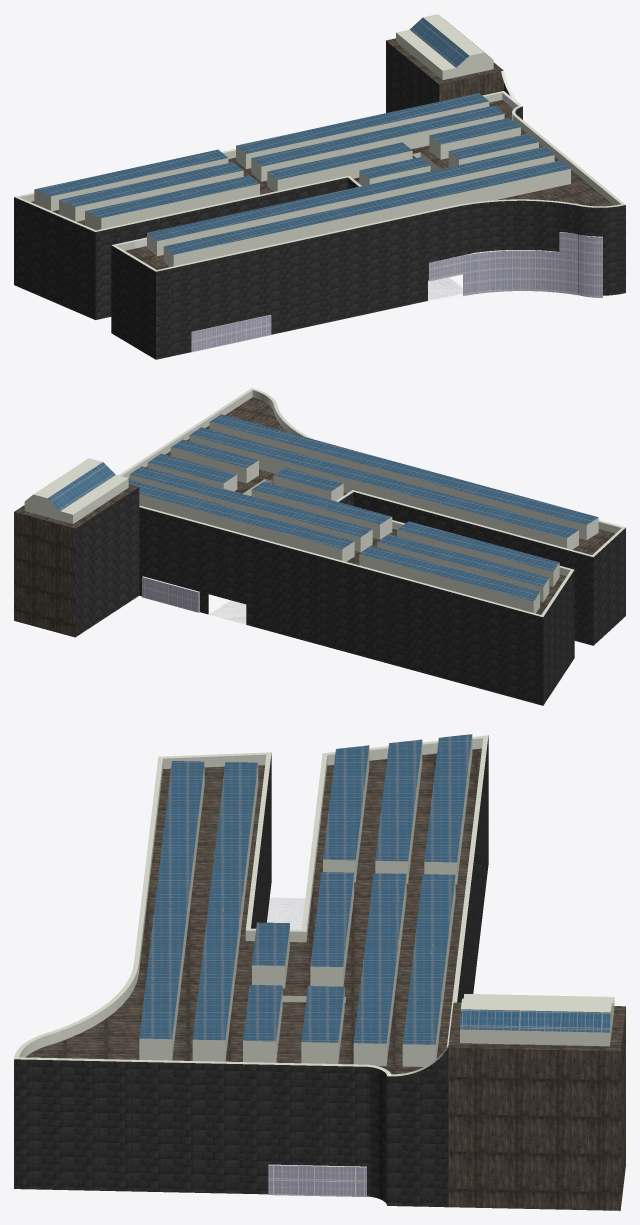
3 renders of one model, top to bottom at view 1: azimuth 30°, elevation 25°; view 2: azimuth 150°, elevation 25°; view 3: azimuth 270°, elevation 25°, orthographic. The views are drawn at different scales.
Parts seen in each view (by area): view 1: SketchUp.001, SketchUp.014, SketchUp.053, SketchUp.005, SketchUp.054, SketchUp.032, SketchUp.006, SketchUp.031, SketchUp.021, SketchUp.023, SketchUp.049, SketchUp.044 (+20 smaller); view 2: SketchUp.001, SketchUp.044, SketchUp.043, SketchUp.054, SketchUp.005, SketchUp.006, SketchUp.032, SketchUp.053, SketchUp.021, SketchUp.049, SketchUp.024, SketchUp.023 (+20 smaller); view 3: SketchUp.001, SketchUp.031, SketchUp.043, SketchUp.032, SketchUp.005, SketchUp.054, SketchUp.021, SketchUp.023, SketchUp.049, SketchUp.011, SketchUp.009, SketchUp.007 (+19 smaller).
Boxes of the visible parts, bbox=[...] form: SketchUp.001: bbox=[14, 82, 625, 359]; SketchUp.014: bbox=[429, 232, 602, 297]; SketchUp.053: bbox=[163, 169, 570, 266]; SketchUp.005: bbox=[147, 146, 553, 240]; SketchUp.054: bbox=[164, 160, 570, 254]; SketchUp.032: bbox=[14, 91, 625, 271]; SketchUp.006: bbox=[147, 155, 554, 256]; SketchUp.031: bbox=[31, 100, 613, 269]; SketchUp.021: bbox=[251, 105, 504, 166]; SketchUp.023: bbox=[236, 93, 488, 153]; SketchUp.049: bbox=[396, 14, 493, 79]; SketchUp.044: bbox=[386, 41, 439, 112]; SketchUp.001: bbox=[139, 492, 625, 705]; SketchUp.044: bbox=[75, 487, 139, 637]; SketchUp.043: bbox=[14, 512, 75, 637]; SketchUp.054: bbox=[209, 414, 598, 524]; SketchUp.005: bbox=[189, 427, 578, 537]; SketchUp.006: bbox=[189, 435, 578, 549]; SketchUp.032: bbox=[117, 388, 625, 616]; SketchUp.053: bbox=[209, 422, 598, 540]; SketchUp.021: bbox=[130, 466, 372, 537]; SketchUp.049: bbox=[24, 458, 128, 523]; SketchUp.024: bbox=[139, 494, 354, 561]; SketchUp.023: bbox=[128, 480, 354, 549]; SketchUp.001: bbox=[14, 735, 488, 1207]; SketchUp.031: bbox=[25, 748, 481, 1074]; SketchUp.043: bbox=[448, 1008, 625, 1210]; SketchUp.032: bbox=[14, 735, 488, 1075]; SketchUp.005: bbox=[192, 762, 257, 1040]; SketchUp.054: bbox=[139, 761, 204, 1039]; SketchUp.021: bbox=[353, 873, 406, 1043]; SketchUp.023: bbox=[403, 874, 455, 1044]; SketchUp.049: bbox=[460, 994, 614, 1046]; SketchUp.011: bbox=[424, 734, 472, 862]; SketchUp.009: bbox=[375, 739, 422, 861]; SketchUp.007: bbox=[323, 745, 369, 860].
Bounding box in the file's own units: 99.53 × 25.39 × 74.42.
Materials: 10 (7 with a texture image).
